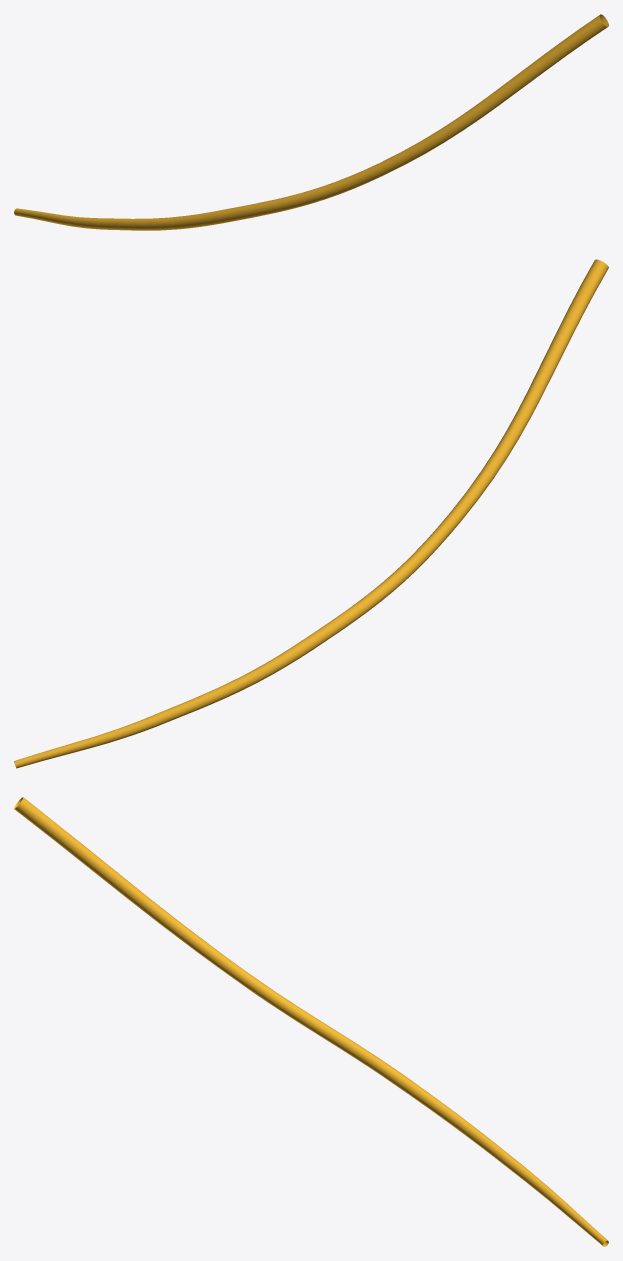
File: nervoso-superior-subscapular-nerve-r.glb
3 renders of one model, top to bottom at view 1: azimuth 90°, elevation 25°; view 2: azimuth 150°, elevation 25°; view 3: azimuth 270°, elevation 25°, orthographic. The views are drawn at different scales.
Visible parts, largest first — view 1: Superior subscapular nerve.r; view 2: Superior subscapular nerve.r; view 3: Superior subscapular nerve.r.
Part boxes in pixels (x1,y1,x2,y2): Superior subscapular nerve.r: (14, 14, 608, 230); Superior subscapular nerve.r: (14, 259, 608, 768); Superior subscapular nerve.r: (14, 797, 608, 1246).
Size of the model in its own units: 0.0322 by 0.0378 by 0.0628.
